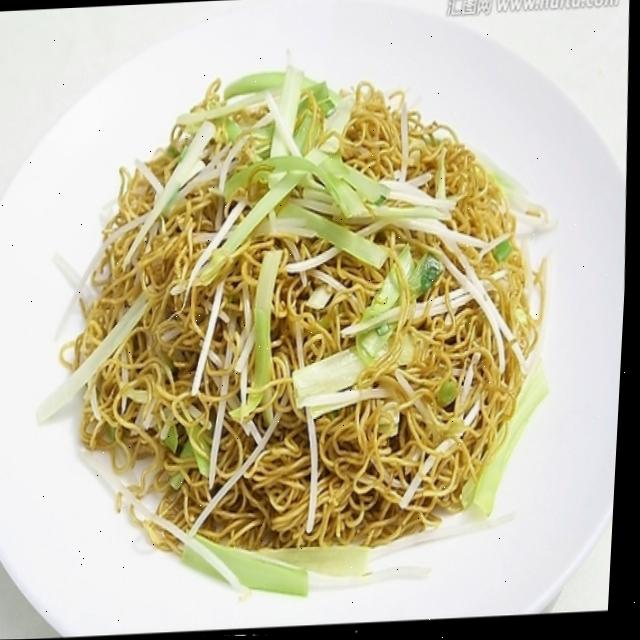面条主食: (69, 64, 558, 562)
